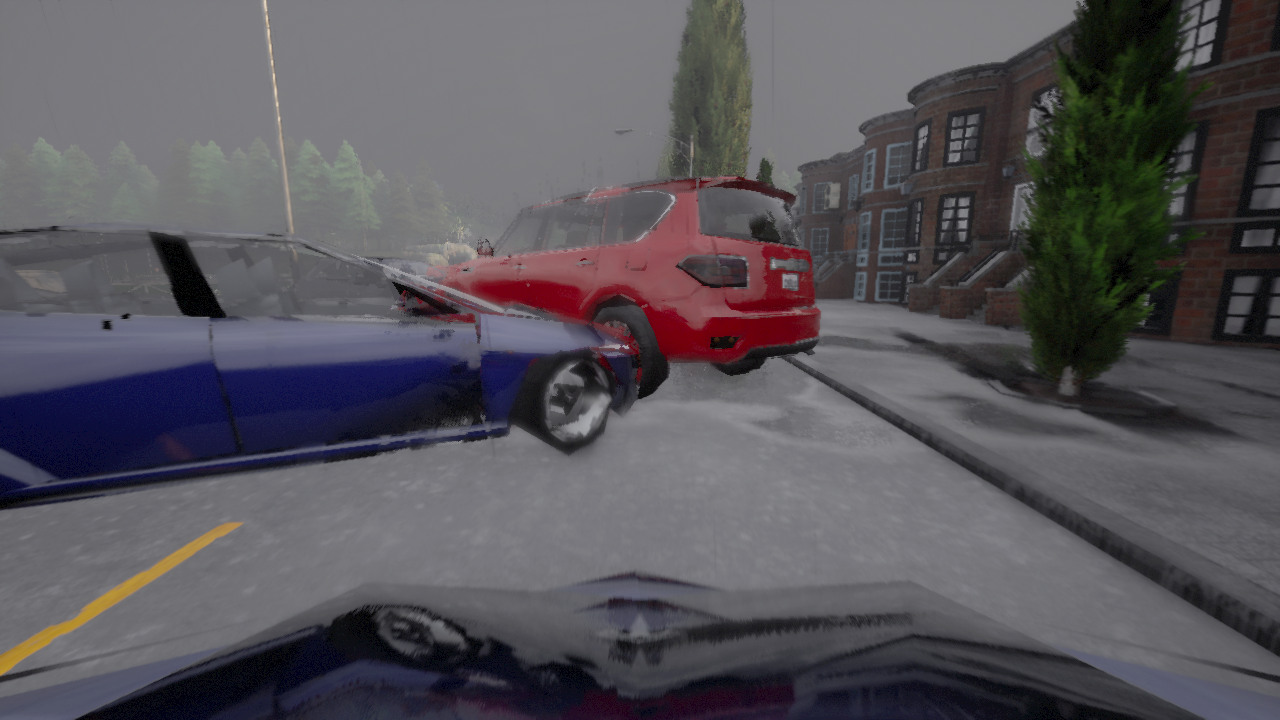cyclist: (0, 569, 1279, 719), (0, 220, 640, 511), (435, 176, 821, 400), (363, 256, 444, 297), (435, 266, 447, 271)
